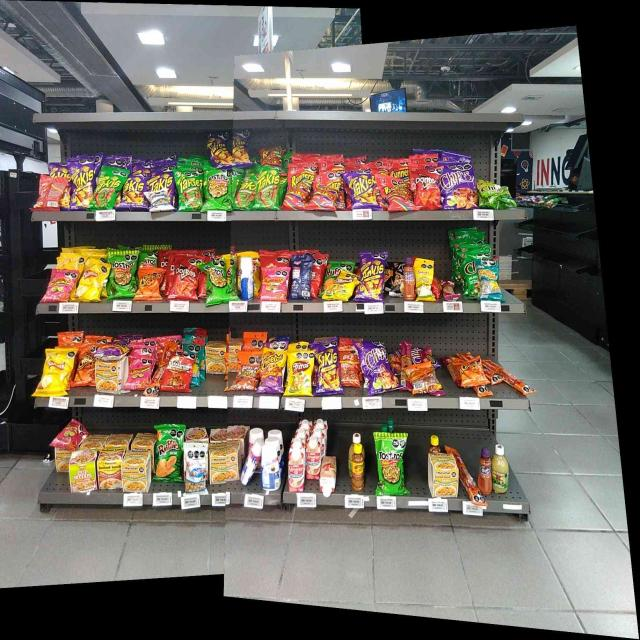bitzEnchilado90: (341, 345, 358, 385)
bitzEnchilado95: (499, 364, 533, 397), (461, 466, 476, 504)
bitzHabanero: (438, 278, 460, 300), (397, 339, 415, 362)
botaneraChilito: (349, 444, 365, 490)
cheetosFlaminHot: (258, 347, 284, 395)
cheetosOriginal: (137, 266, 163, 301), (457, 358, 486, 384), (74, 352, 94, 386)
chipsFuego: (361, 343, 394, 393), (442, 163, 476, 209)
chipsJalapeno: (463, 252, 475, 301)
chipsPapatinas: (478, 182, 512, 209)
churrumais: (261, 267, 288, 303), (56, 418, 84, 448), (49, 270, 73, 300), (127, 357, 150, 388)
delPrimoSalsa: (494, 444, 508, 494)
doritosNacho: (167, 256, 198, 300), (412, 170, 439, 210)
fritosLimon: (288, 352, 312, 398), (341, 270, 355, 300)
leoCacahuates: (184, 442, 208, 496), (146, 191, 172, 211)
leoMix: (234, 351, 256, 390)
maruchanPollo: (428, 452, 458, 498), (211, 442, 240, 481), (124, 451, 150, 491), (95, 362, 124, 394), (205, 344, 226, 375)
maruchanRes: (100, 449, 122, 489)
nestleCarnation: (288, 446, 303, 492), (306, 436, 320, 479), (322, 456, 336, 496)
nestleLechera: (262, 446, 279, 492), (241, 448, 260, 485), (240, 258, 253, 299)
nissinCamaron: (69, 453, 96, 491)
productoAtras: (404, 366, 438, 394), (39, 179, 69, 209), (292, 254, 310, 298)
rancheritos: (165, 356, 192, 391)
rufflesQueso: (154, 426, 182, 482), (322, 259, 339, 286)
runners: (284, 164, 310, 209), (379, 174, 409, 210), (314, 174, 342, 211)
sabritasOriginal: (38, 350, 68, 396), (76, 260, 103, 300)
semillasCalabaza: (417, 256, 434, 300)
semillasGirasol: (478, 257, 500, 301)
tajinDulce: (402, 256, 415, 301), (479, 451, 492, 493)
takisFuego: (344, 171, 376, 210), (314, 343, 338, 394), (359, 252, 383, 300), (72, 162, 92, 207), (209, 134, 232, 167), (233, 132, 254, 166), (124, 177, 144, 207), (148, 170, 172, 188), (48, 163, 71, 177)
takisOriginal: (94, 165, 122, 209), (256, 165, 280, 213), (175, 170, 202, 210), (234, 175, 254, 212)
tostitos: (375, 432, 405, 498), (107, 252, 133, 296), (202, 262, 227, 302)
